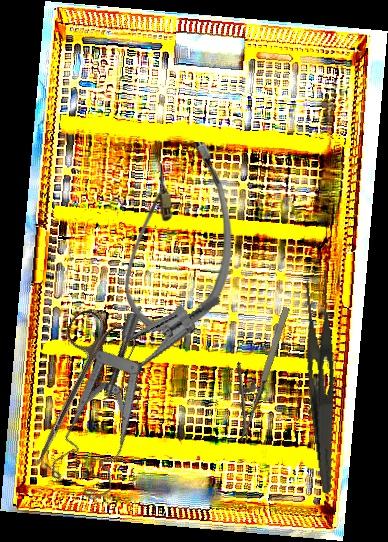Cannula: (124, 142, 232, 328)
Dressing Forceps: (293, 269, 358, 494)
Iris Scissors: (10, 304, 141, 481)
Needle Holder: (212, 298, 295, 443)
Speculum: (13, 307, 211, 513), (100, 272, 223, 430)
